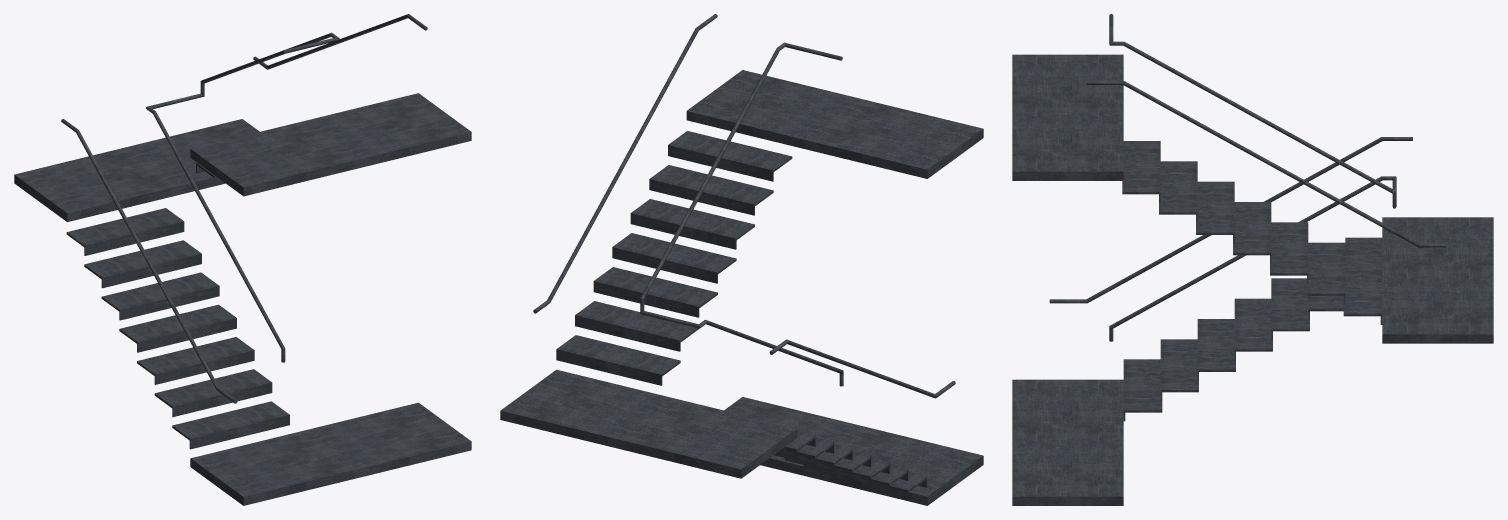
The model's file is 4668_Esc2Vol.obj.
3 views of the same model, side by side, from view 1: azimuth 30°, elevation 25°; view 2: azimuth 150°, elevation 25°; view 3: azimuth 270°, elevation 25° (orthographic). The views are drawn at different scales.
Parts seen in each view (by area): view 1: Metal_smooth; view 2: Metal_smooth; view 3: Metal_smooth.
Part boxes in pixels (bbox=[...]): Metal_smooth: bbox=[14, 14, 471, 505]; Metal_smooth: bbox=[500, 14, 983, 505]; Metal_smooth: bbox=[1012, 14, 1493, 505].
Size of the model in its own units: 8.86 by 14.83 by 15.42.
Materials: 1 (1 with a texture image).
